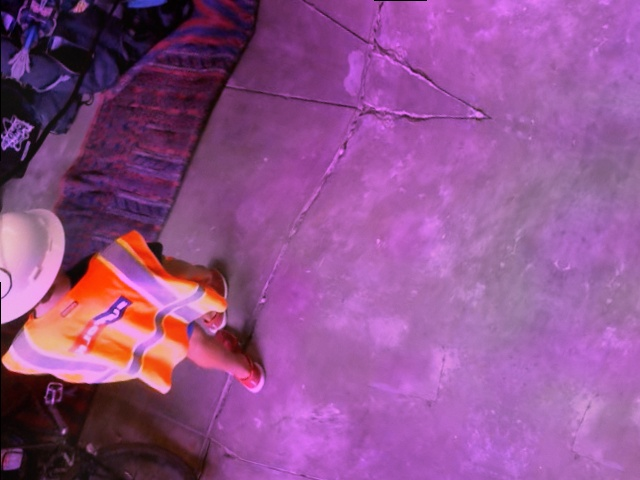three: (0, 257, 17, 302)
